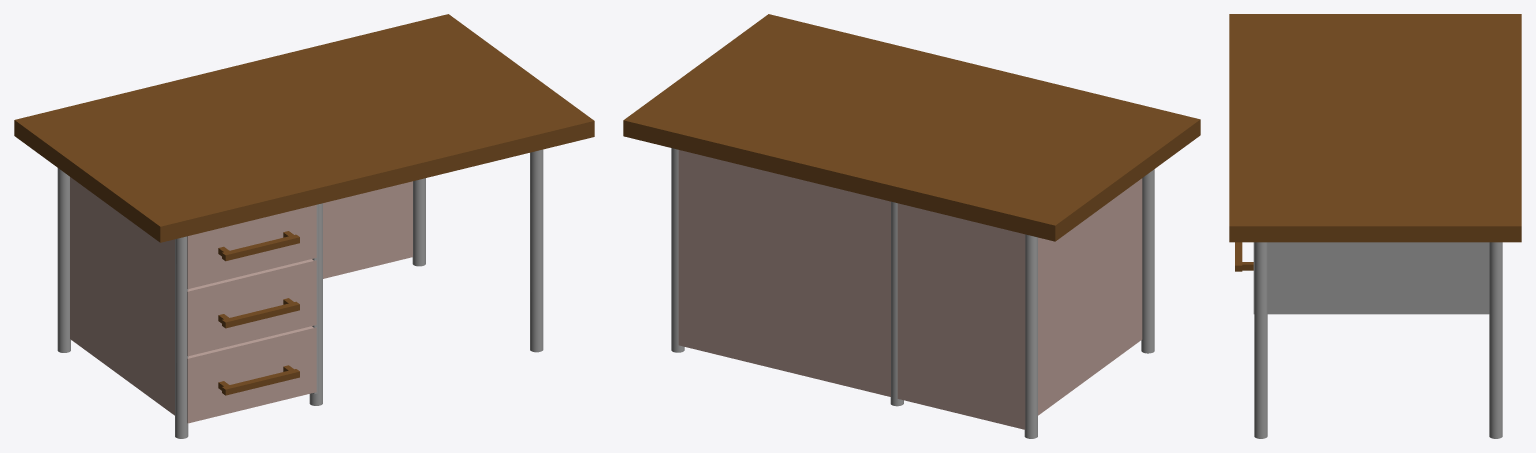
Rendered from desk_white.fbx.
The picture shows the model from 3 angles, left to right: view 1: azimuth 30°, elevation 25°; view 2: azimuth 150°, elevation 25°; view 3: azimuth 270°, elevation 25°; orthographic projection.
Visible parts, largest first — view 1: Box017; view 2: Box017; view 3: Box017.
Boxes of the visible parts, x1,y1,x2,y2 form: Box017: (14,14,594,438); Box017: (623,14,1200,438); Box017: (1229,14,1521,438).
Bounding box in the file's own units: 1 × 0.5061 × 0.5823.
